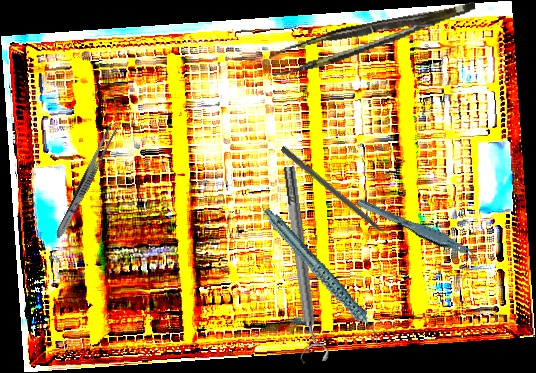Dressing Forceps: (52, 120, 120, 242)
Fixation Ring: (275, 164, 330, 365)
Handpiece: (262, 190, 383, 363)
Pusher: (279, 145, 400, 249)
Tissue Forceps: (266, 1, 481, 77), (355, 184, 482, 276)
